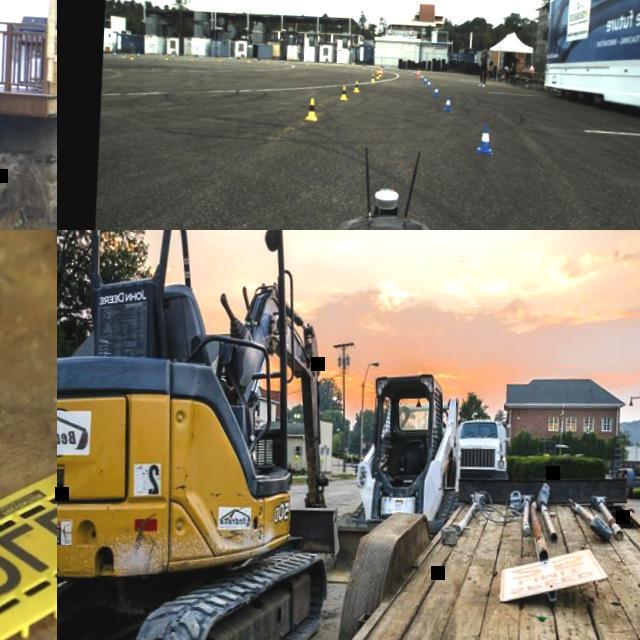NO-Hardhat: (483, 45, 487, 49), (528, 62, 532, 65), (513, 54, 515, 56), (505, 64, 507, 66), (501, 68, 503, 70)
NO-Safety Vest: (480, 52, 486, 64), (511, 66, 515, 74), (513, 58, 516, 67), (529, 68, 533, 74)
Person: (0, 230, 57, 640), (478, 44, 489, 88), (503, 62, 516, 84), (524, 62, 534, 87), (499, 66, 506, 78), (512, 54, 518, 67), (488, 64, 491, 80), (504, 64, 509, 72)
Safety Cone: (476, 124, 494, 154), (304, 98, 318, 121), (443, 95, 452, 111), (339, 86, 347, 101), (352, 80, 359, 93), (432, 86, 439, 97), (416, 68, 420, 78), (427, 79, 431, 88), (370, 73, 374, 82), (424, 76, 427, 84), (420, 74, 423, 81), (376, 72, 379, 79), (381, 66, 383, 76), (378, 71, 381, 77), (130, 54, 133, 60), (218, 56, 221, 62), (137, 52, 140, 58), (113, 51, 116, 56), (165, 55, 168, 60), (416, 70, 418, 76), (407, 69, 410, 73), (266, 59, 269, 63), (199, 54, 201, 60), (190, 56, 193, 60), (376, 67, 378, 72), (325, 62, 327, 67), (305, 61, 307, 66), (172, 54, 174, 59), (486, 62, 488, 67), (414, 70, 416, 74), (397, 68, 399, 72), (386, 66, 388, 70), (378, 68, 380, 72), (371, 66, 373, 70), (363, 66, 365, 70), (348, 64, 350, 68), (285, 60, 287, 64), (254, 58, 256, 62), (248, 58, 250, 62), (230, 57, 232, 61), (488, 66, 490, 70)
vehicle: (57, 230, 358, 640), (100, 132, 640, 230), (314, 368, 463, 589), (454, 416, 510, 483)
